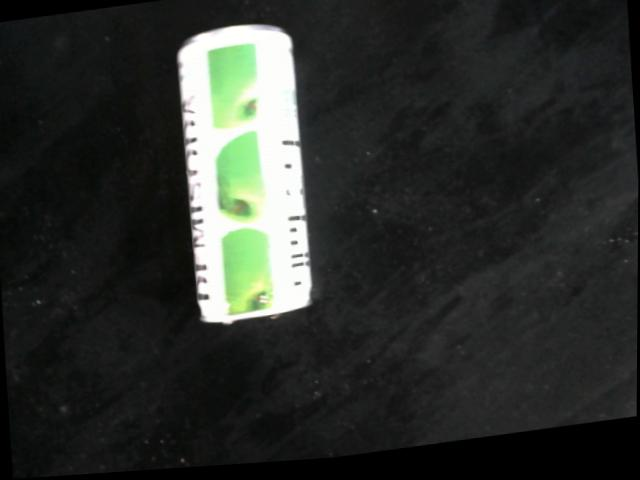can: (176, 26, 316, 328)
